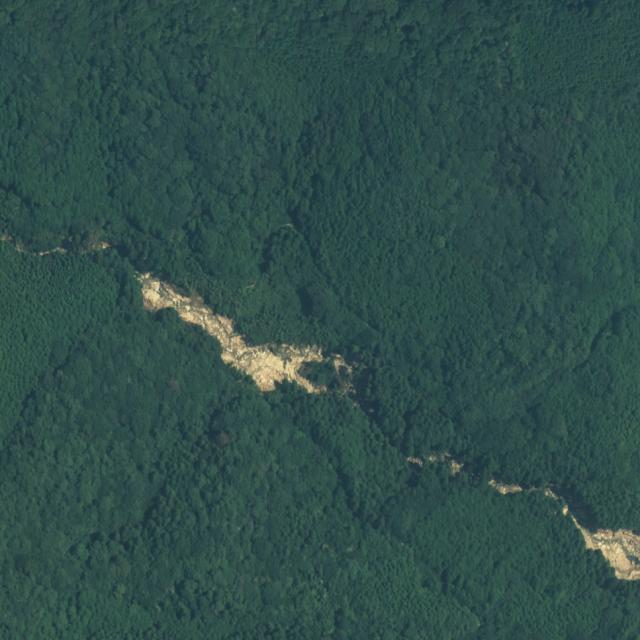landslide: (136, 273, 350, 394), (573, 517, 640, 581)
